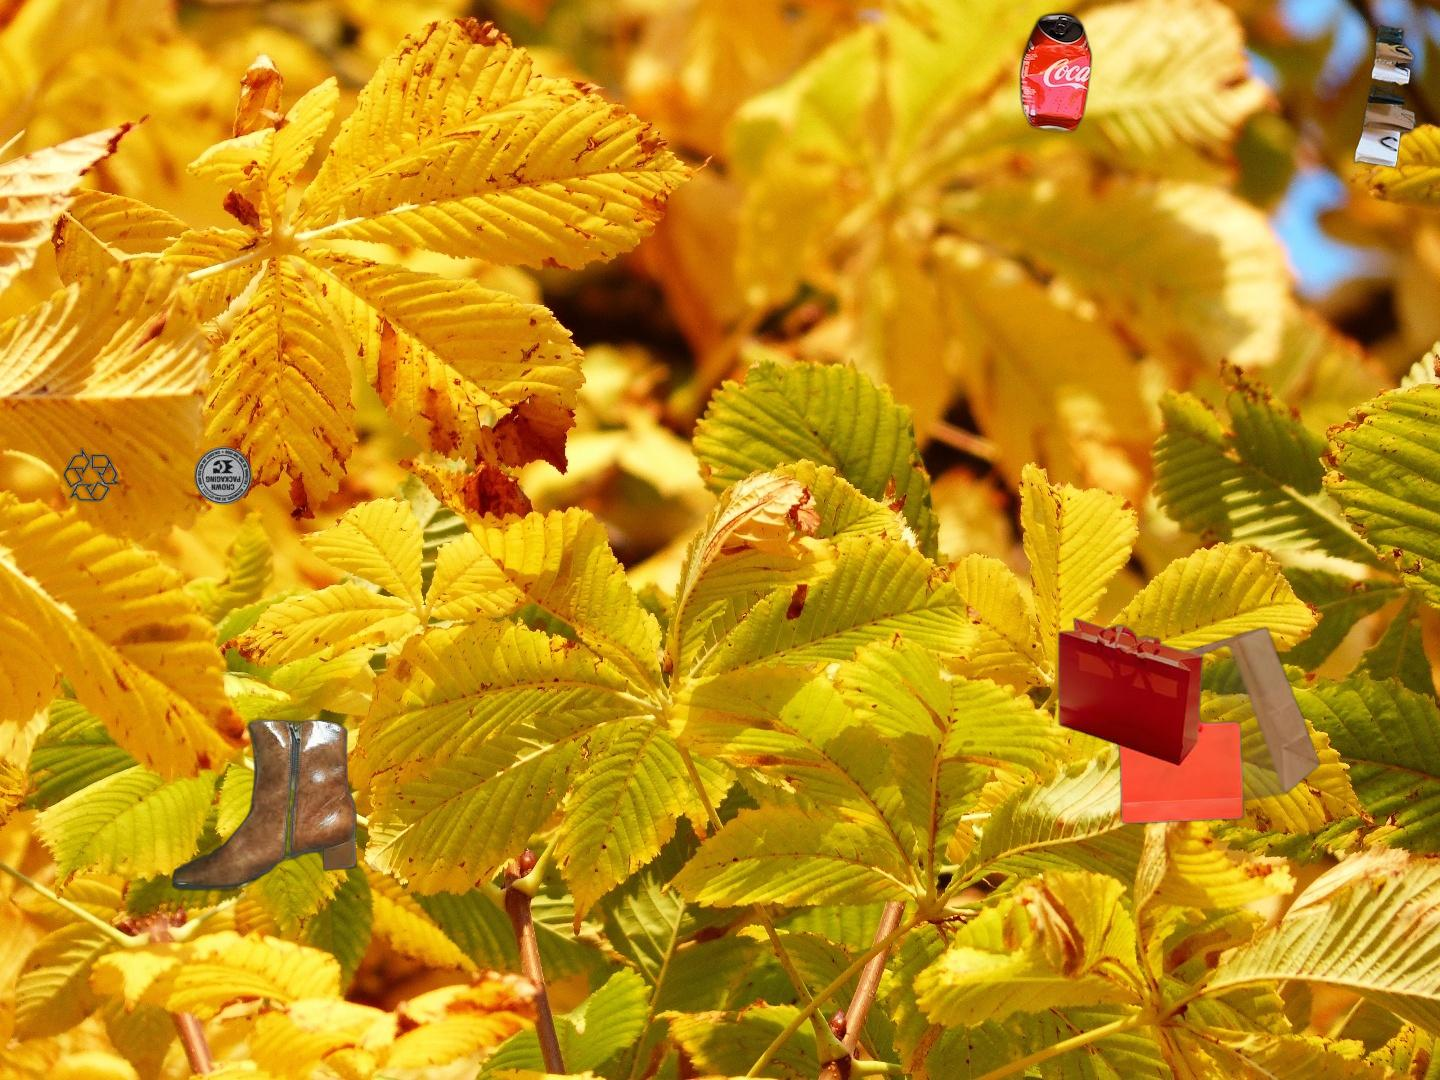glass: (1269, 916, 1440, 1080)
metal-cans: (1015, 7, 1096, 138)
paper-bag: (1052, 615, 1344, 835), (1350, 23, 1420, 169)
shoes: (169, 712, 359, 893)
trashbox-cardboard: (60, 444, 256, 508)
